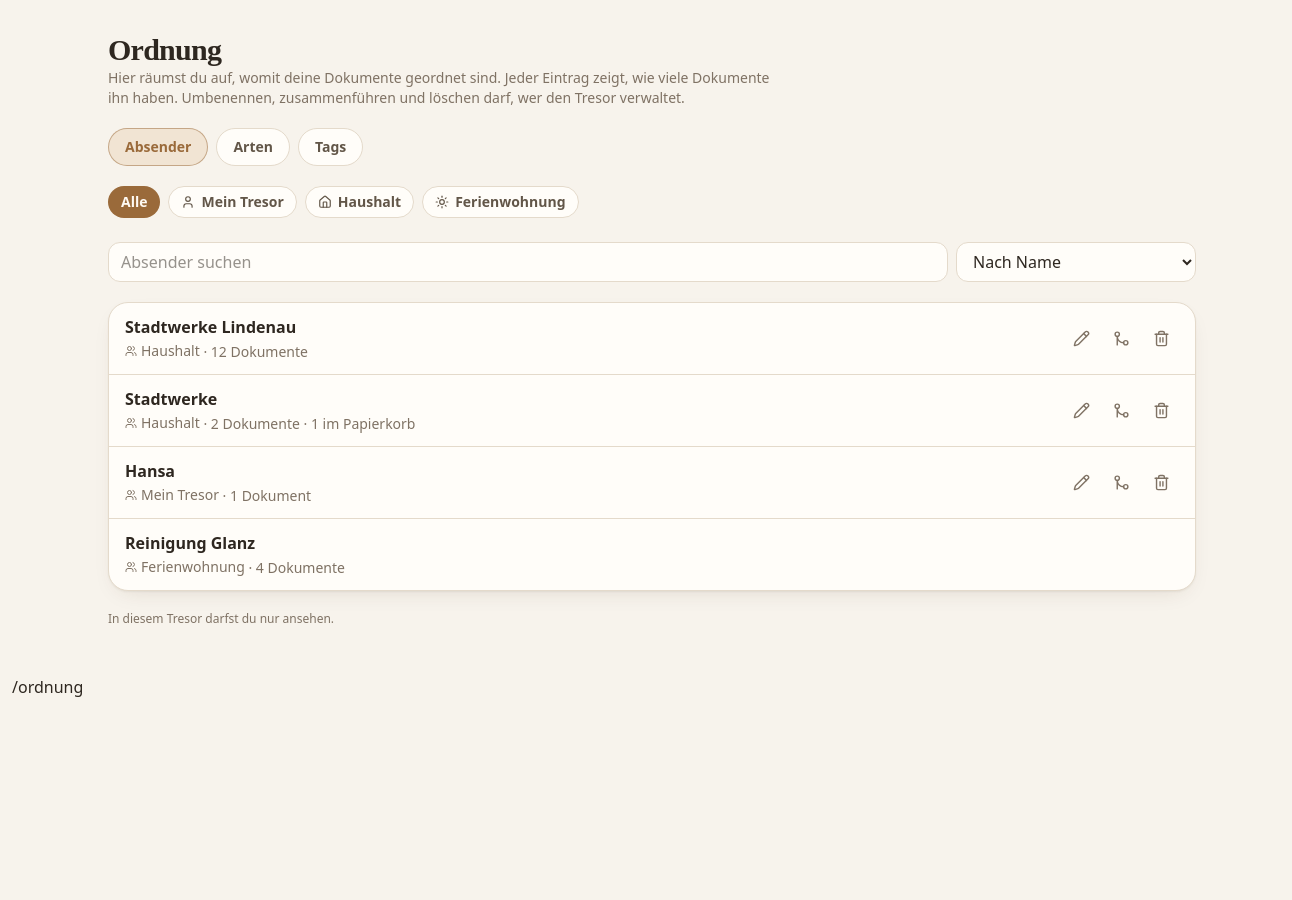
Test: the lists › keep the tab in the address
Step 1. Click the tab "Arten" → point(253, 147), box [216,128,290,166]
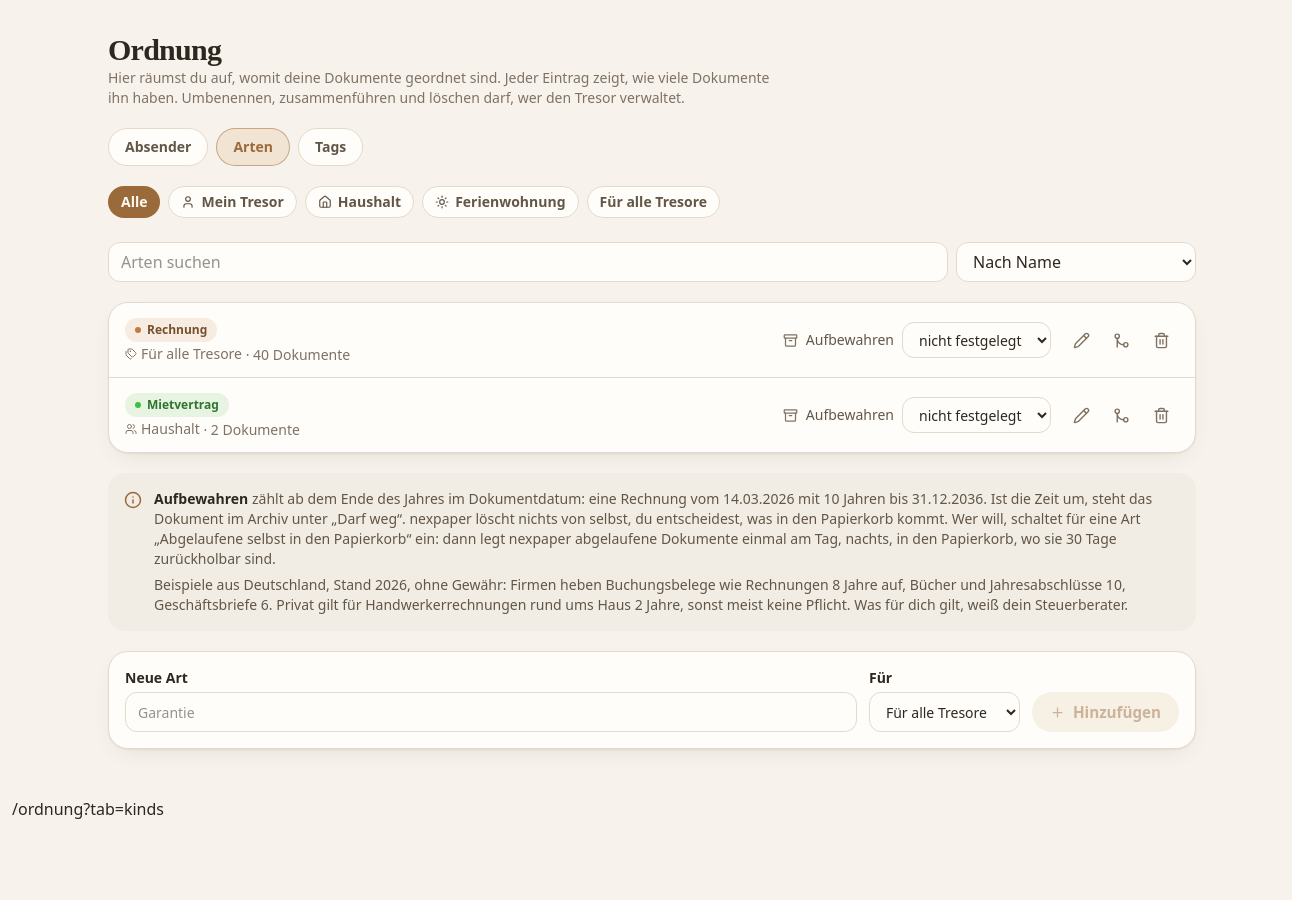
Result: the text with test id "where" reads "/ordnung?tab=kinds" at [12,798,164,820]
Step 2. Click the tab "Tags" → point(331, 147), box [298,128,363,166]
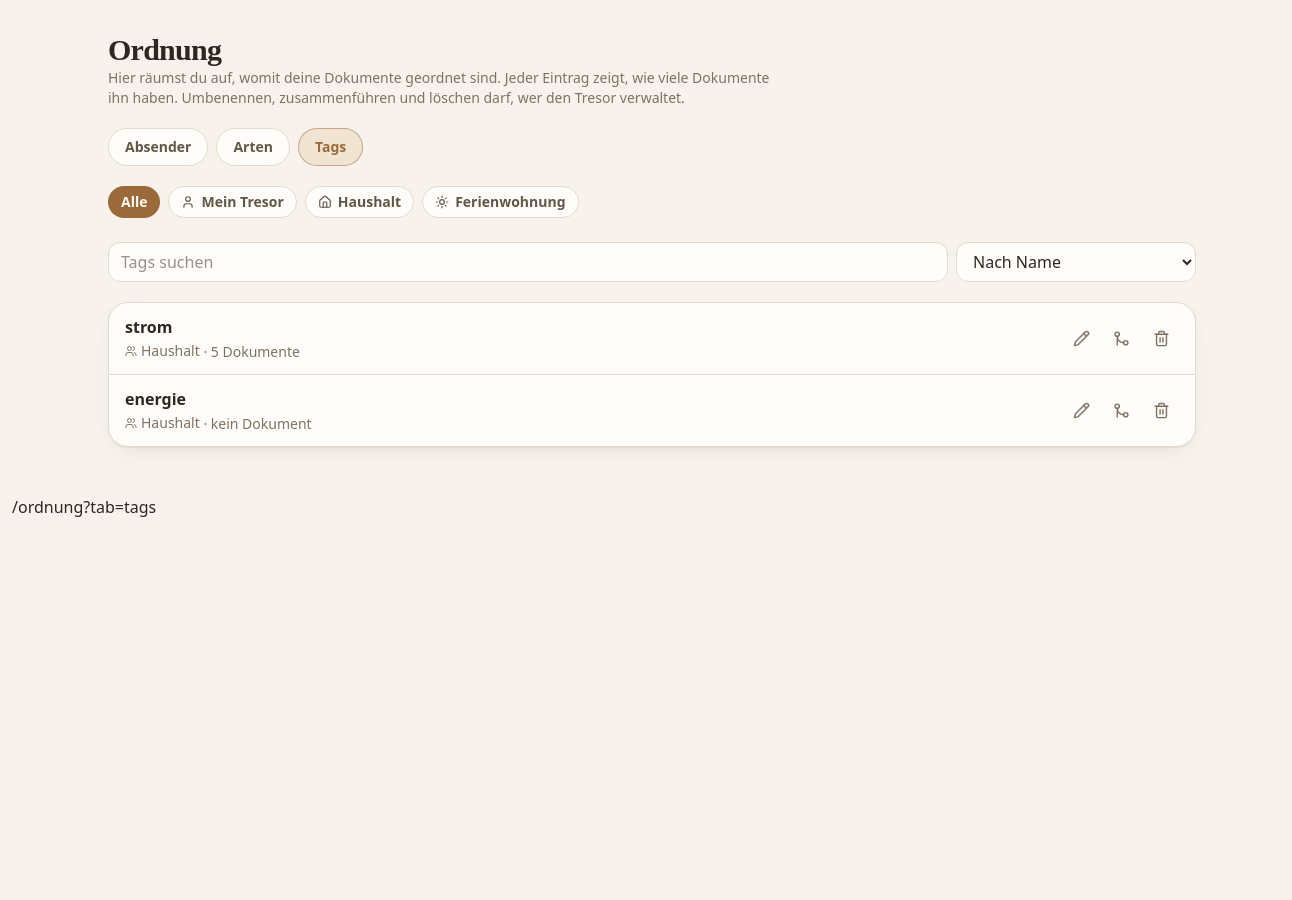
Result: the text with test id "where" reads "/ordnung?tab=tags" at [12,496,156,518]
